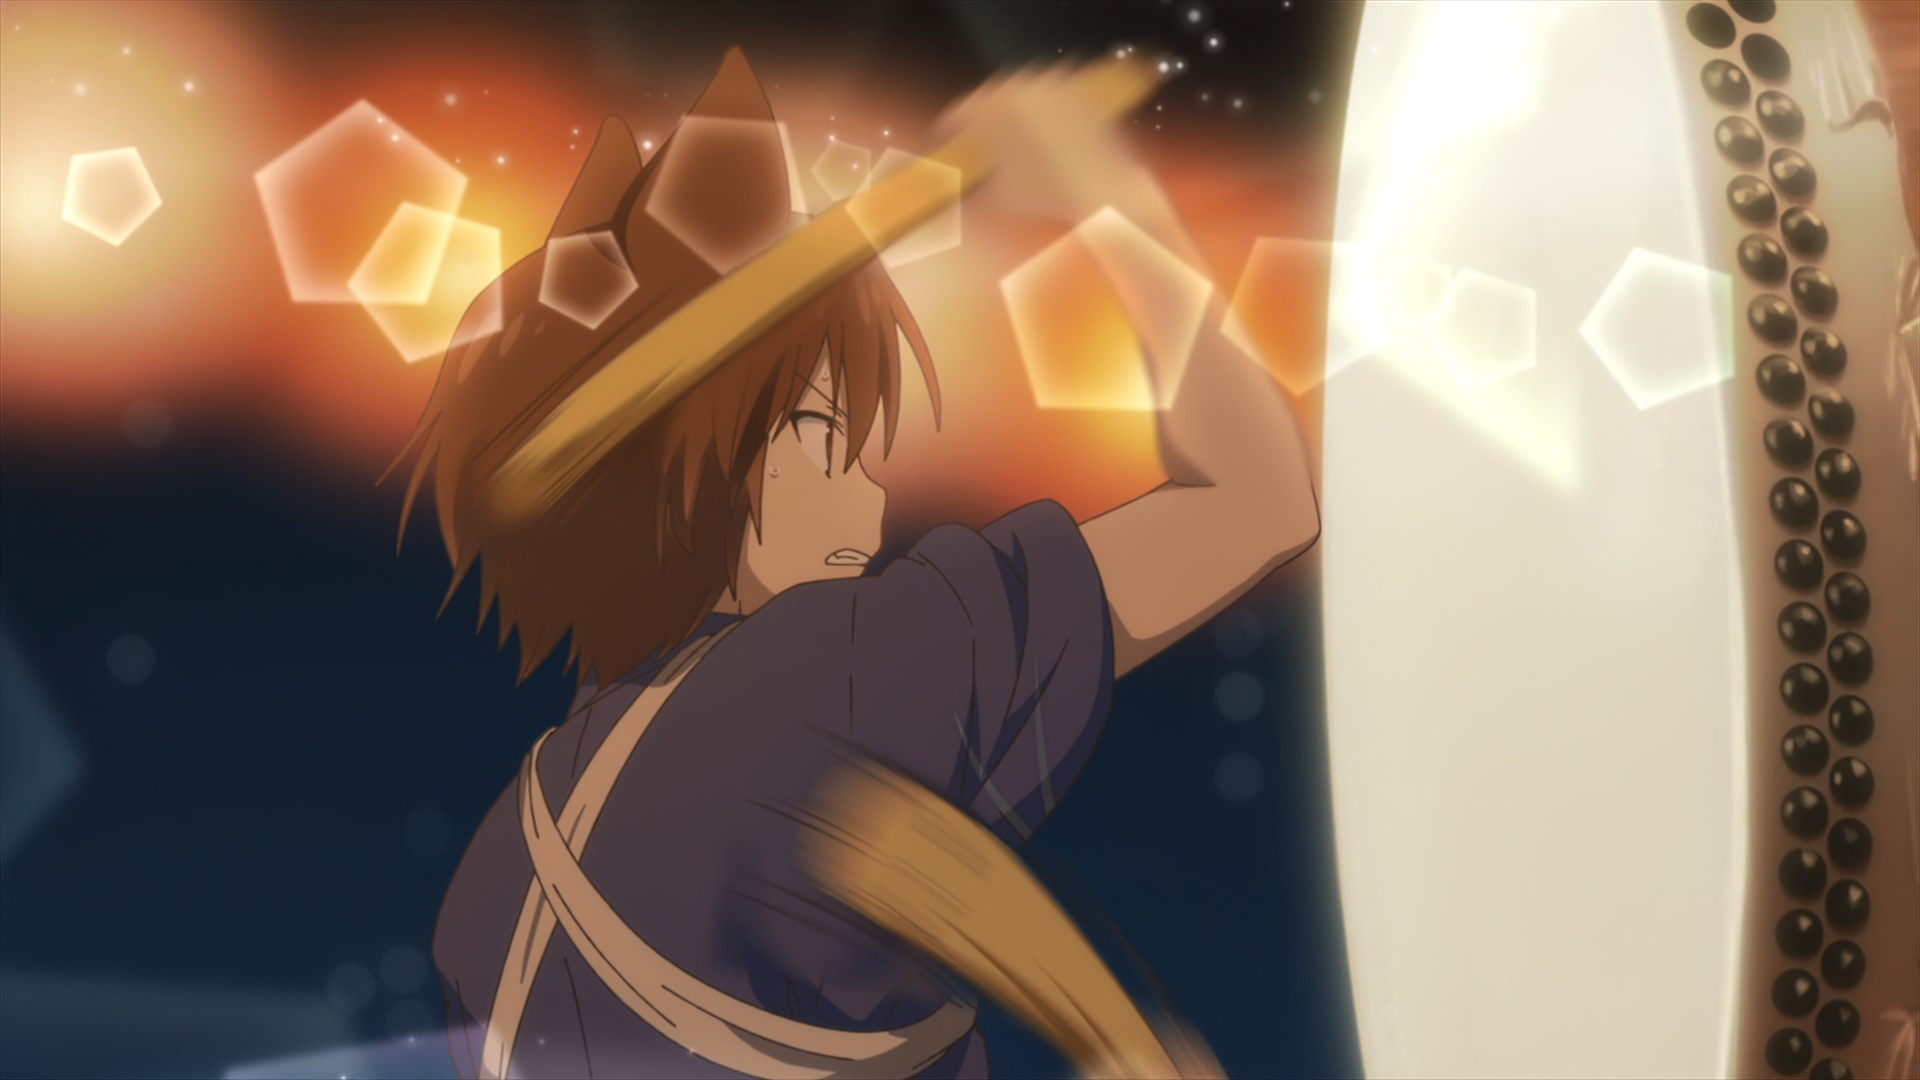枣: (372, 47, 1325, 1080)
